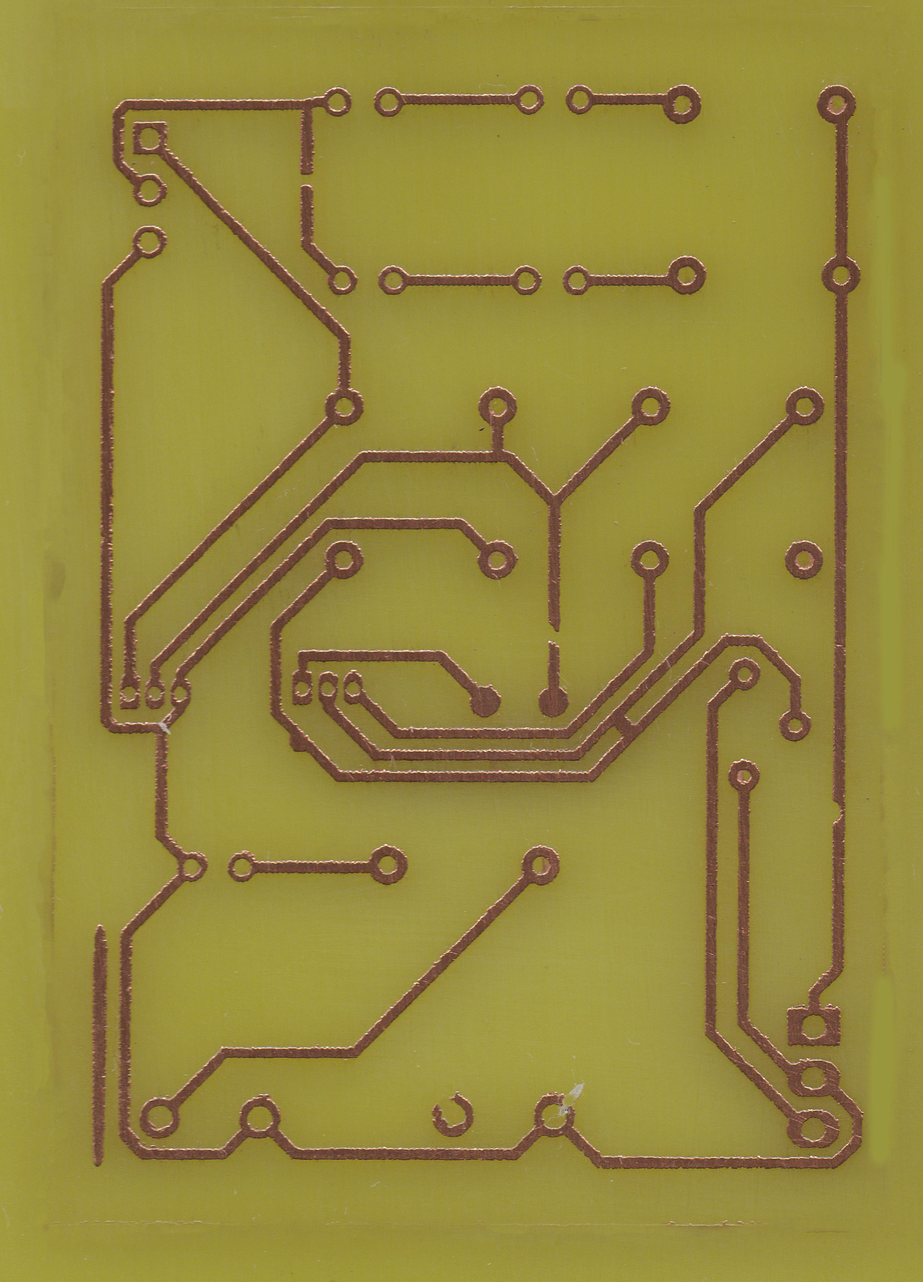missing_hole: (531, 1088, 578, 1142), (430, 1091, 479, 1140)
mouse_bite: (828, 792, 848, 831)
open_circuit: (544, 615, 565, 655), (296, 161, 317, 200)
short: (607, 706, 641, 749)
spur: (285, 727, 313, 759)
spurious_copper: (87, 920, 113, 1174)
